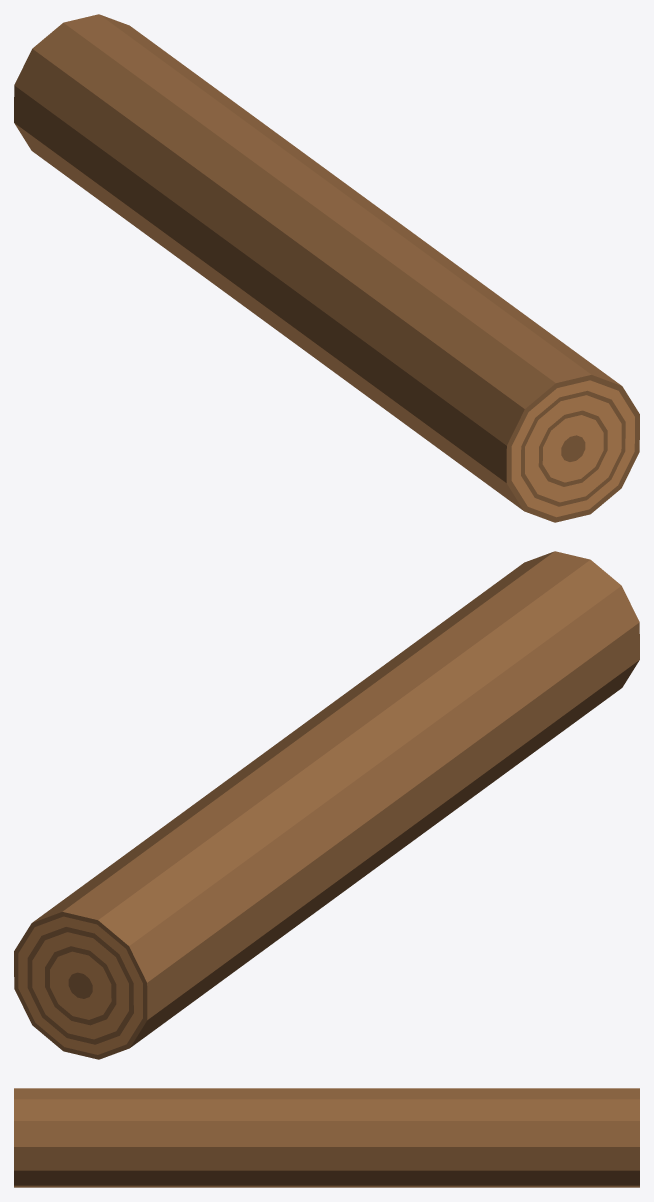
File: Beam_1_mat.fbx
The picture shows the model from 3 angles, top to bottom: view 1: azimuth 30°, elevation 25°; view 2: azimuth 150°, elevation 25°; view 3: azimuth 270°, elevation 25°; orthographic projection. The views are drawn at different scales.
Visible parts, largest first — view 1: Beam_1_mat; view 2: Beam_1_mat; view 3: Beam_1_mat.
Boxes of the visible parts, x1,y1,x2,y2 form: Beam_1_mat: (14,14,639,522); Beam_1_mat: (14,551,639,1059); Beam_1_mat: (14,1088,639,1187).
Size of the model in its own units: 0.3624 by 0.3624 by 2.32.
